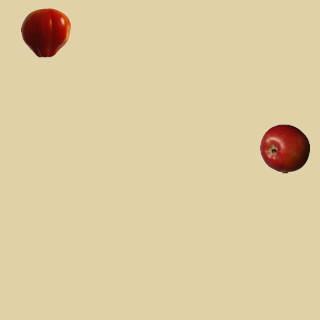Apple Braeburn: (259, 123, 309, 173)
Tomato 1: (20, 7, 70, 57)
